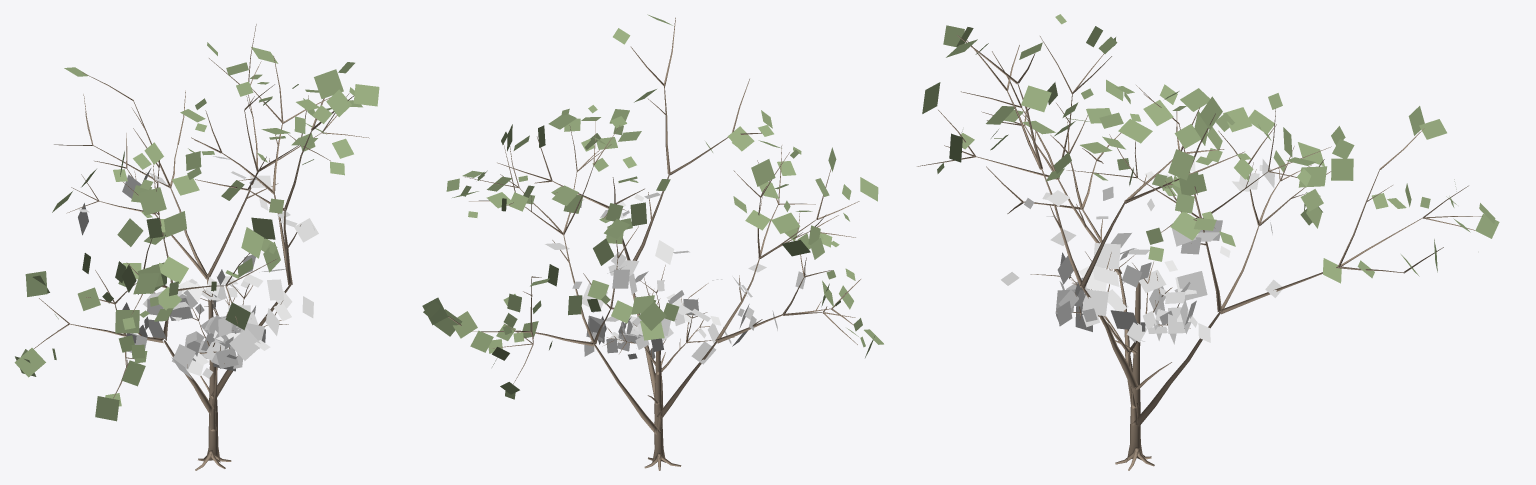
The model's file is tree-a-far.glb.
The picture shows the model from 3 angles, left to right: view 1: azimuth 30°, elevation 25°; view 2: azimuth 150°, elevation 25°; view 3: azimuth 270°, elevation 25°; orthographic projection. The views are drawn at different scales.
Parts seen in each view (by area): view 1: leaf, leafDeep, wood; view 2: leaf, wood, leafDeep; view 3: leaf, wood, leafDeep.
Boxes of the visible parts, x1,y1,x2,y2 form: leaf: (14, 42, 379, 421); leafDeep: (78, 156, 318, 379); wood: (34, 24, 369, 470); leaf: (422, 14, 883, 399); wood: (448, 17, 860, 470); leafDeep: (545, 192, 806, 364); leaf: (922, 14, 1499, 283); wood: (917, 35, 1482, 470); leafDeep: (1001, 159, 1281, 344).
Size of the model in its own units: 20.31 by 19.69 by 23.37.
